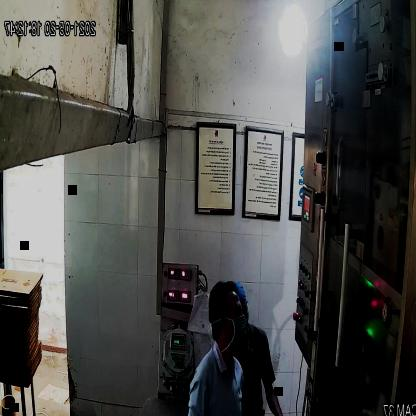no_goggles: (220, 304, 246, 322)
